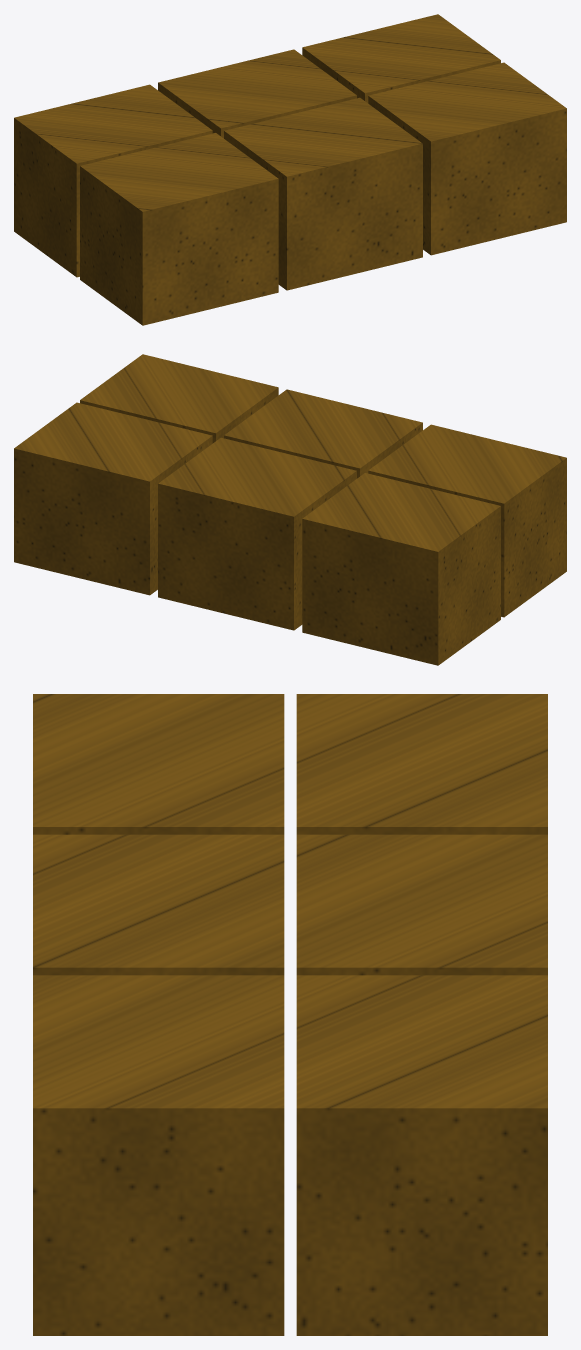
File: PROP-86E1D1FF95BA_lod2.glb
3 views of the same model, one above another, from view 1: azimuth 30°, elevation 25°; view 2: azimuth 150°, elevation 25°; view 3: azimuth 270°, elevation 25° (orthographic). The views are drawn at different scales.
Parts seen in each view (by area): view 1: hay_bale.001; view 2: hay_bale.001; view 3: hay_bale.001.
Part boxes in pixels (x1=…): hay_bale.001: x1=14, y1=14, x2=566, y2=325; hay_bale.001: x1=14, y1=354, x2=566, y2=665; hay_bale.001: x1=33, y1=694, x2=547, y2=1335.
Size of the model in its own units: 1.56 by 0.4 by 0.82.
Materials: 1 (1 with a texture image).
